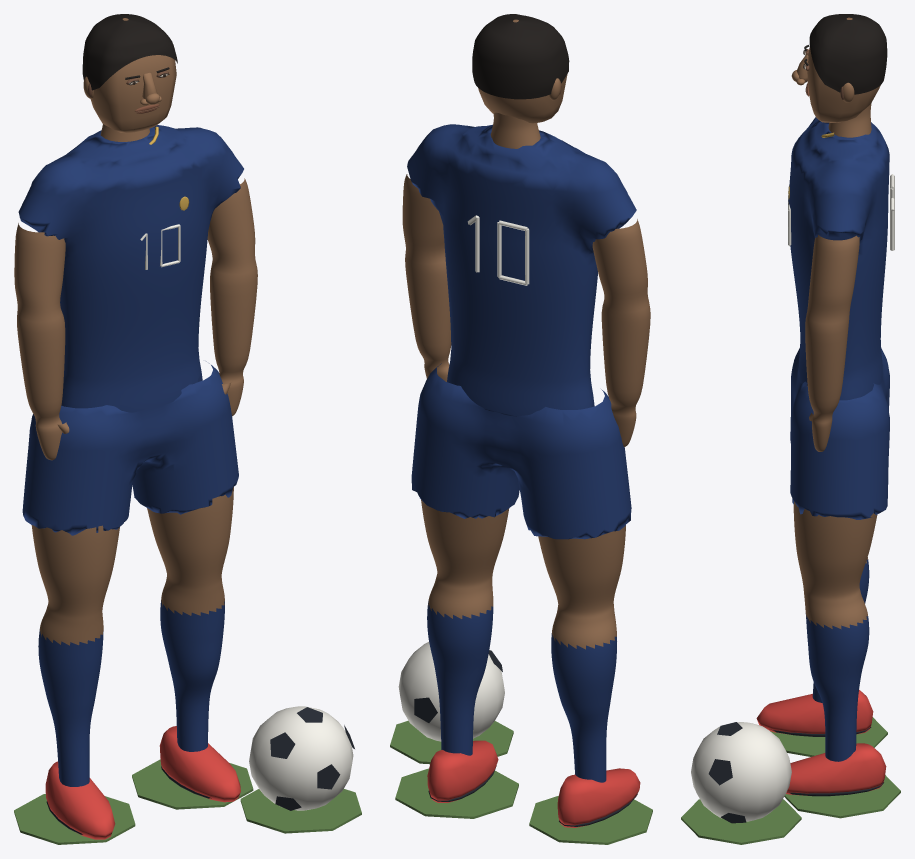
The model's file is mbappe.glb.
3 views of the same model, side by side, from view 1: azimuth 30°, elevation 25°; view 2: azimuth 150°, elevation 25°; view 3: azimuth 270°, elevation 25° (orthographic). The views are drawn at different scales.
Parts seen in each view (by area): view 1: jersey_navy, shorts_navy, arms_dark, legs_dark, legs_navy, turf_grass, football_white, boots_red, head_dark, hair_cap_blackHair, football_panels_ink; view 2: jersey_navy, shorts_navy, arms_dark, legs_dark, legs_navy, turf_grass, hair_cap_blackHair, boots_red, football_white, head_dark, neck_dark, back_number_white (+1 smaller); view 3: jersey_navy, shorts_navy, arms_dark, legs_dark, football_white, turf_grass, legs_navy, boots_red, hair_cap_blackHair, head_dark, football_panels_ink, neck_dark (+1 smaller).
Boxes of the visible parts, x1=… form: jersey_navy: x1=18, y1=125, x2=243, y2=412; shorts_navy: x1=22, y1=361, x2=238, y2=535; arms_dark: x1=14, y1=178, x2=257, y2=460; legs_dark: x1=31, y1=487, x2=233, y2=645; legs_navy: x1=38, y1=600, x2=224, y2=786; turf_grass: x1=14, y1=759, x2=361, y2=844; football_white: x1=249, y1=706, x2=353, y2=810; boots_red: x1=45, y1=726, x2=240, y2=839; head_dark: x1=90, y1=18, x2=176, y2=133; hair_cap_blackHair: x1=82, y1=14, x2=177, y2=90; football_panels_ink: x1=270, y1=707, x2=354, y2=810; jersey_navy: x1=407, y1=124, x2=636, y2=416; shorts_navy: x1=411, y1=363, x2=631, y2=539; arms_dark: x1=402, y1=174, x2=650, y2=446; legs_dark: x1=421, y1=499, x2=625, y2=649; legs_navy: x1=427, y1=601, x2=616, y2=782; turf_grass: x1=390, y1=720, x2=652, y2=844; hair_cap_blackHair: x1=472, y1=14, x2=569, y2=99; boots_red: x1=427, y1=740, x2=640, y2=827; football_white: x1=398, y1=642, x2=504, y2=741; head_dark: x1=478, y1=19, x2=567, y2=123; neck_dark: x1=490, y1=112, x2=540, y2=148; back_number_white: x1=467, y1=215, x2=529, y2=285; jersey_navy: x1=788, y1=117, x2=889, y2=400; shorts_navy: x1=790, y1=348, x2=889, y2=519; arms_dark: x1=805, y1=235, x2=859, y2=451; legs_dark: x1=793, y1=501, x2=877, y2=629; football_white: x1=691, y1=722, x2=791, y2=821; turf_grass: x1=681, y1=717, x2=900, y2=844; legs_navy: x1=805, y1=559, x2=869, y2=761; boots_red: x1=756, y1=689, x2=886, y2=795; hair_cap_blackHair: x1=809, y1=14, x2=887, y2=94; head_dark: x1=807, y1=17, x2=880, y2=122; football_panels_ink: x1=708, y1=722, x2=746, y2=823; neck_dark: x1=828, y1=103, x2=871, y2=137.
Bounding box in the file's own units: 0.6985 × 1.78 × 0.4758.
